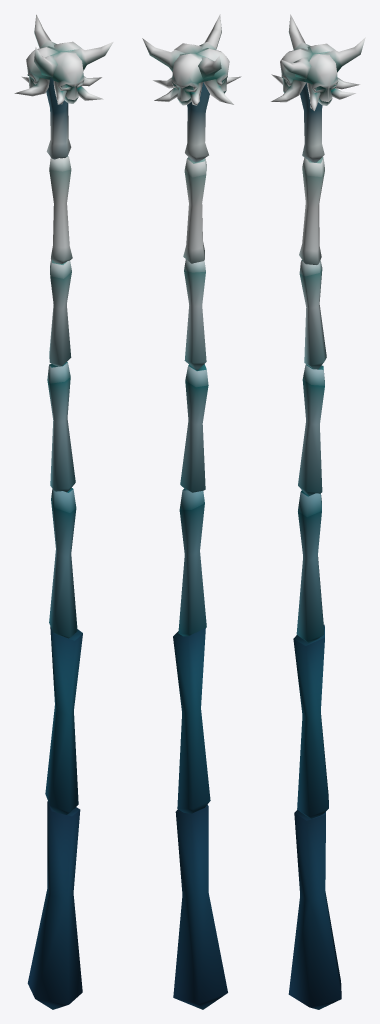
Rendered from BonePillar.gltf.
3 views of the same model, side by side, from view 1: azimuth 30°, elevation 25°; view 2: azimuth 210°, elevation 25°; view 3: azimuth 270°, elevation 25° (orthographic).
Visible parts, largest first — view 1: BonePillarMesh; view 2: BonePillarMesh; view 3: BonePillarMesh.
Boxes of the visible parts, x1,y1,x2,y2 form: BonePillarMesh: (14, 14, 113, 1009); BonePillarMesh: (142, 14, 241, 1009); BonePillarMesh: (271, 14, 365, 1009).
Bounding box in the file's own units: 1.88 × 20.31 × 1.79.
